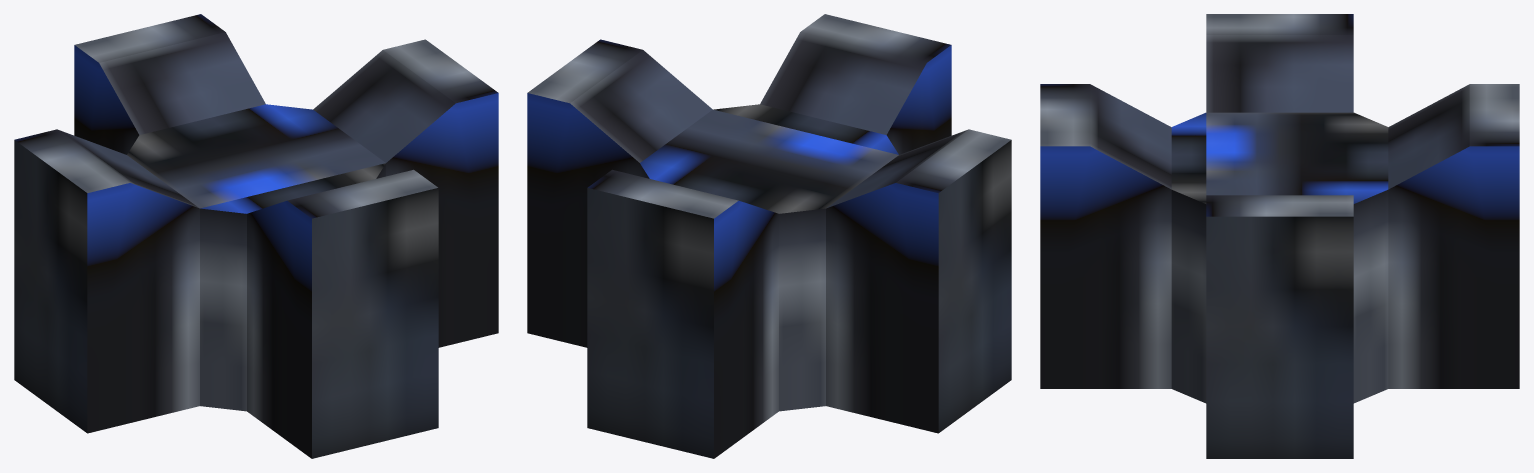
The model's file is armdrag_blue.glb.
3 views of the same model, side by side, from view 1: azimuth 30°, elevation 25°; view 2: azimuth 150°, elevation 25°; view 3: azimuth 270°, elevation 25° (orthographic).
Parts seen in each view (by area): view 1: base; view 2: base; view 3: base.
Part boxes in pixels (bbox=[...]): base: bbox=[14, 14, 498, 458]; base: bbox=[527, 14, 1011, 458]; base: bbox=[1040, 14, 1519, 458].
Bounding box in the file's own units: 30.45 × 17.01 × 30.45.
Materials: 1 (1 with a texture image).
